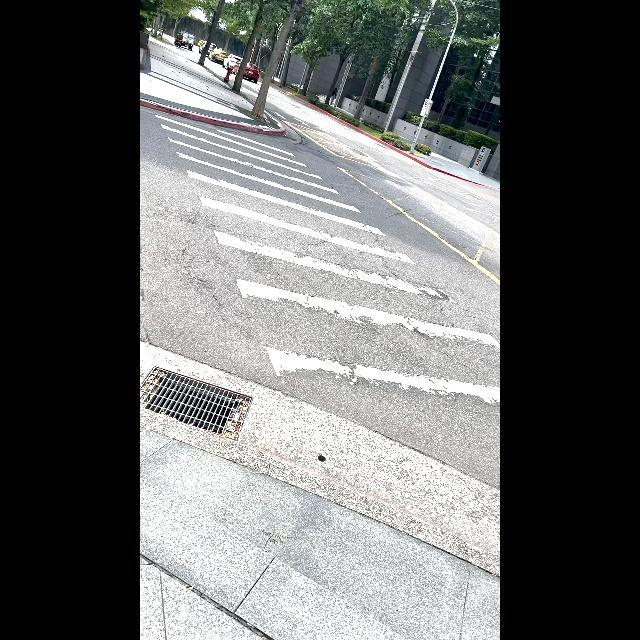sidewalk: (150, 110, 500, 409)
